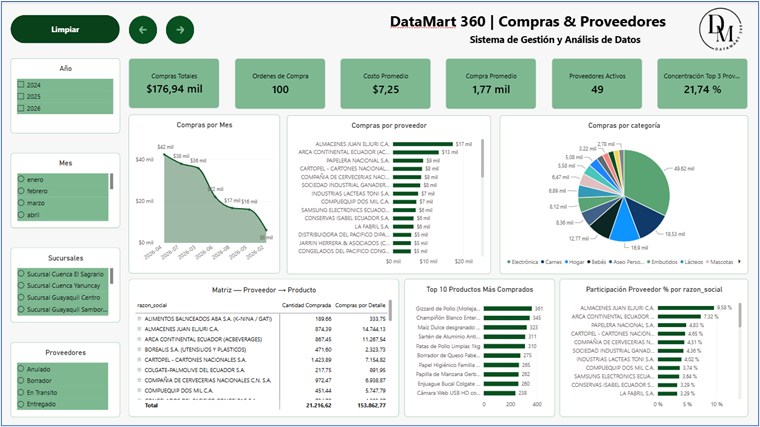

This screenshot's page, from the dashboard's own definition file:
{"tool":"powerbi","page":{"name":"Compras & Proveedores","canvas":[1920,1080],"ordinal":5},"visuals":[{"type":"textbox","box":[975.4,23.5,758.2,55.8],"z":0,"group":"g5"},{"type":"actionButton","title":"Limpiar","box":[22.2,35.2,277.8,72.2],"z":0},{"type":"listSlicer","fields":{"Values":["Calendario.Año"]},"box":[22.2,144.4,278.5,190],"z":0,"group":"g4"},{"type":"cardVisual","fields":{"Data":["_Medidas.Costo Promedio"]},"box":[860,145.2,230,129.3],"z":0,"group":"g2"},{"type":"group","id":"g1","title":"Grupo 4","box":[975.4,23.5,758.2,97.7],"z":1000},{"type":"cardVisual","fields":{"Data":["_Medidas.Compras Totales"]},"box":[322.3,145.2,230.8,127.3],"z":1000,"group":"g2"},{"type":"listSlicer","title":"Mes","fields":{"Values":["Calendario.Nombre Mes"]},"box":[22.2,385.1,278.5,190],"z":1000,"group":"g4"},{"type":"cardVisual","fields":{"Data":["_Medidas.Proveedores Activos"]},"box":[1396.9,145.2,230,129.3],"z":2000,"group":"g2"},{"type":"lineChart","title":"Compras por Mes","fields":{"Category":["Calendario.Año-Mes"],"Y":["_Medidas.Compras Totales"]},"box":[322.3,288.5,384,403.9],"z":2000},{"type":"listSlicer","title":"Sucursales","fields":{"Values":["sucursales.nombre"]},"box":[22.2,625.9,278.5,190],"z":2000,"group":"g4"},{"type":"cardVisual","fields":{"Data":["_Medidas.Compra Promedio"]},"box":[1128.4,145.2,230,129.3],"z":3000,"group":"g2"},{"type":"clusteredBarChart","title":"Compras por proveedor","fields":{"Category":["proveedores.razon_social"],"Y":["_Medidas.Compras Totales"]},"box":[724.1,288.9,518.5,403.7],"z":3000},{"type":"listSlicer","title":"Proveedores","fields":{"Values":["despachos_sucursales.estado"]},"box":[22.2,866.6,278.5,190],"z":3000,"group":"g4"},{"type":"cardVisual","fields":{"Data":["_Medidas.Ordenes de Compra"]},"box":[591.5,145.2,230,129.3],"z":4000,"group":"g2"},{"type":"pieChart","title":"Compras por categoría","fields":{"Category":["categorias.nombre"],"Y":["_Medidas.Compras por Detalle"]},"box":[1264.8,288.9,631.5,403.7],"z":4000},{"type":"actionButton","box":[416.4,35.8,72.4,72.4],"z":5000,"group":"g3"},{"type":"cardVisual","fields":{"Data":["_Medidas.Concentración Top 3 Proveedores %"]},"box":[1665.3,145.2,230,129.3],"z":5000,"group":"g2"},{"type":"clusteredBarChart","title":"Top 10 Productos Más Comprados","fields":{"Category":["productos.nombre"],"Y":["_Medidas.Cantidad Comprada"]},"box":[1021.7,706.3,382,350.2],"z":5000},{"type":"actionButton","box":[322.3,35.8,72.4,72.4],"z":6000,"group":"g3"},{"type":"pivotTable","title":"Matriz — Proveedor → Producto","fields":{"Rows":["proveedores.razon_social","productos.nombre"],"Values":["_Medidas.Cantidad Comprada","_Medidas.Compras por Detalle"]},"box":[322.3,706.3,686.4,350.2],"z":6000},{"type":"clusteredBarChart","fields":{"Category":["proveedores.razon_social"],"Y":["_Medidas.Participación Proveedor %"]},"box":[1416.6,706.3,479.5,350.2],"z":7000},{"type":"group","id":"g2","title":"Grupo 1","box":[322.3,145.2,1573,129.3],"z":8000},{"type":"group","id":"g3","title":"Grupo 5","box":[322.3,35.8,167.1,71.6],"z":10000},{"type":"group","id":"g4","title":"Grupo 3","box":[22.2,144.4,278.5,912.2],"z":10001},{"type":"image","box":[1757.4,3.7,138.9,137],"z":10002},{"type":"group","id":"g5","title":"Grupo 2","box":[975.4,23.5,758.2,97.7],"z":11000,"group":"g1"},{"type":"textbox","box":[1188.3,79.3,533.4,41.9],"z":16000,"group":"g5"}]}

Visuals, with their boxes in screenshot pixels (x1, y1, x2, y2), scaled from the page's 1920x1080 canvas onto the 760x427 screenshot:
textbox: rect(386, 9, 686, 31)
"Limpiar" actionButton: rect(9, 14, 119, 42)
listSlicer - Calendario.Año: rect(9, 57, 119, 132)
cardVisual - _Medidas.Costo Promedio: rect(340, 57, 431, 109)
"Grupo 4" group: rect(386, 9, 686, 48)
cardVisual - _Medidas.Compras Totales: rect(128, 57, 219, 108)
"Mes" listSlicer: rect(9, 152, 119, 227)
cardVisual - _Medidas.Proveedores Activos: rect(553, 57, 644, 109)
"Compras por Mes" lineChart: rect(128, 114, 280, 274)
"Sucursales" listSlicer: rect(9, 247, 119, 323)
cardVisual - _Medidas.Compra Promedio: rect(447, 57, 538, 109)
"Compras por proveedor" clusteredBarChart: rect(287, 114, 492, 274)
"Proveedores" listSlicer: rect(9, 343, 119, 418)
cardVisual - _Medidas.Ordenes de Compra: rect(234, 57, 325, 109)
"Compras por categoría" pieChart: rect(501, 114, 751, 274)
actionButton: rect(165, 14, 193, 43)
cardVisual - _Medidas.Concentración Top 3 Proveedores %: rect(659, 57, 750, 109)
"Top 10 Productos Más Comprados" clusteredBarChart: rect(404, 279, 556, 418)
actionButton: rect(128, 14, 156, 43)
"Matriz — Proveedor → Producto" pivotTable: rect(128, 279, 399, 418)
clusteredBarChart - proveedores.razon_social x _Medidas.Participación Proveedor %: rect(561, 279, 751, 418)
"Grupo 1" group: rect(128, 57, 750, 109)
"Grupo 5" group: rect(128, 14, 194, 42)
"Grupo 3" group: rect(9, 57, 119, 418)
image: rect(696, 1, 751, 56)
"Grupo 2" group: rect(386, 9, 686, 48)
textbox: rect(470, 31, 682, 48)
